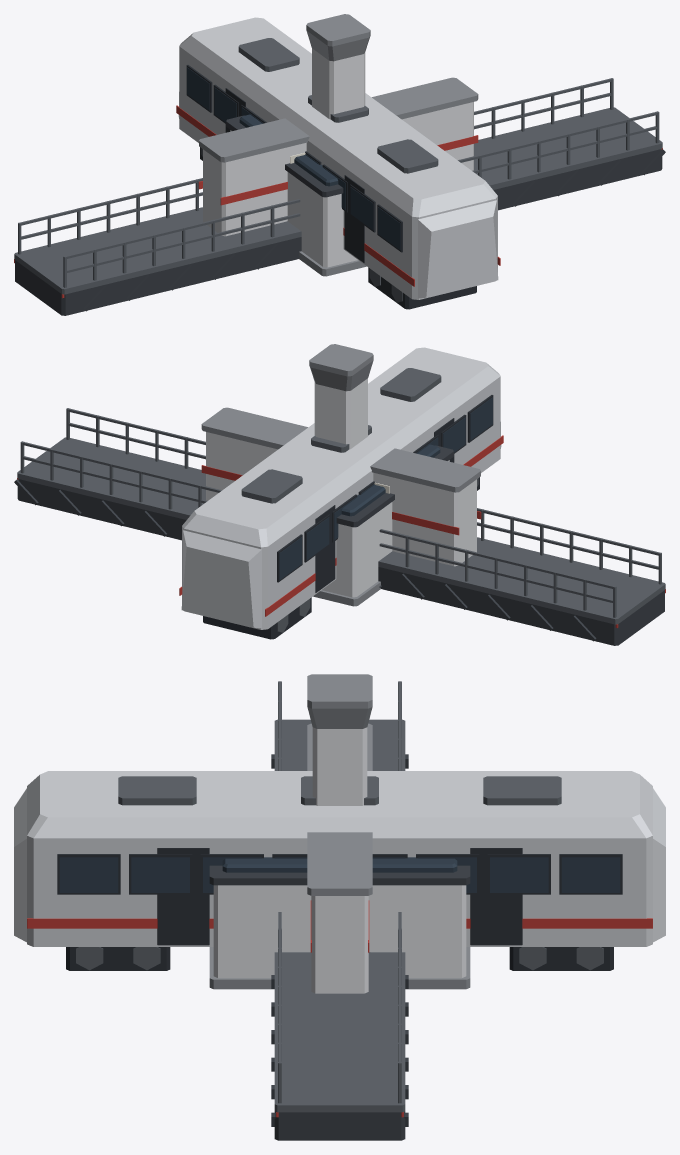
The model's file is Kit.fbx.
The picture shows the model from 3 angles, top to bottom: view 1: azimuth 30°, elevation 25°; view 2: azimuth 150°, elevation 25°; view 3: azimuth 270°, elevation 25°; orthographic projection. The views are drawn at different scales.
Visible parts, largest first — view 1: TrainCar_MT_TrainBody, Footbridge_MT_Steel, Footbridge_MT_SteelDark, SpawnWall_MT_Tile, SpawnWall_MT_ConcreteDark, Stairwell_MT_Tile, TrainCar_MT_Steel, TrainCar_MT_TrainDark, Column_MT_Tile, TrainCar_MT_Glass, Column_MT_ConcreteDark, Stairwell_MT_SteelDark (+4 smaller); view 2: TrainCar_MT_TrainBody, Footbridge_MT_Steel, Footbridge_MT_SteelDark, SpawnWall_MT_Tile, SpawnWall_MT_ConcreteDark, Stairwell_MT_Tile, TrainCar_MT_Steel, TrainCar_MT_TrainDark, Column_MT_Tile, TrainCar_MT_Glass, Column_MT_ConcreteDark, Stairwell_MT_SteelDark (+4 smaller); view 3: TrainCar_MT_TrainBody, Footbridge_MT_Steel, Stairwell_MT_Tile, TrainCar_MT_TrainDark, TrainCar_MT_Glass, TrainCar_MT_Steel, SpawnWall_MT_Tile, SpawnWall_MT_ConcreteDark, Footbridge_MT_SteelDark, Column_MT_Tile, Column_MT_ConcreteDark, TrainCar_MT_Yellow (+3 smaller).
Boxes of the visible parts, x1,y1,x2,y2 form: TrainCar_MT_TrainBody: (178,17,498,299); Footbridge_MT_Steel: (14,78,662,294); Footbridge_MT_SteelDark: (15,149,665,315); SpawnWall_MT_Tile: (203,102,473,236); SpawnWall_MT_ConcreteDark: (199,77,478,162); Stairwell_MT_Tile: (230,130,357,267); TrainCar_MT_Steel: (201,38,438,302); TrainCar_MT_TrainDark: (186,65,476,309); Column_MT_Tile: (312,48,365,119); TrainCar_MT_Glass: (187,67,400,250); Column_MT_ConcreteDark: (306,14,370,61); Stairwell_MT_SteelDark: (226,115,343,197); TrainCar_MT_TrainBody: (181,347,501,629); Footbridge_MT_Steel: (17,408,665,624); Footbridge_MT_SteelDark: (14,479,664,645); SpawnWall_MT_Tile: (206,432,476,566); SpawnWall_MT_ConcreteDark: (201,407,480,492); Stairwell_MT_Tile: (322,460,449,597); TrainCar_MT_Steel: (241,368,478,632); TrainCar_MT_TrainDark: (203,395,493,639); Column_MT_Tile: (314,378,367,449); TrainCar_MT_Glass: (279,397,492,580); Column_MT_ConcreteDark: (309,344,373,391); Stairwell_MT_SteelDark: (336,445,453,527); TrainCar_MT_TrainBody: (14,771,665,946); Footbridge_MT_Steel: (274,681,405,1112); Stairwell_MT_Tile: (213,885,466,978); TrainCar_MT_TrainDark: (57,848,622,970); TrainCar_MT_Glass: (59,857,620,892); TrainCar_MT_Steel: (76,776,603,970); SpawnWall_MT_Tile: (311,896,368,993); SpawnWall_MT_ConcreteDark: (307,723,372,895); Footbridge_MT_SteelDark: (271,754,408,1140); Column_MT_Tile: (312,727,367,805); Column_MT_ConcreteDark: (307,674,372,728); TrainCar_MT_Yellow: (27,918,652,928).
Size of the model in its own units: 70.11 by 26.06 by 50.
